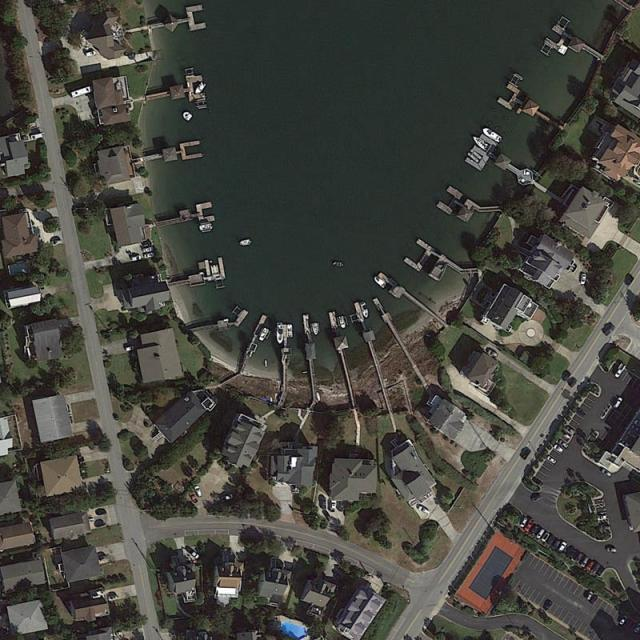vehicle: (70, 85, 92, 98), (186, 546, 199, 560), (520, 448, 531, 460), (485, 347, 498, 357), (30, 131, 46, 139), (188, 491, 198, 503), (625, 275, 635, 287), (419, 505, 432, 514), (330, 499, 337, 513), (600, 468, 612, 476), (558, 542, 567, 552), (320, 495, 326, 510), (222, 494, 233, 502), (614, 397, 622, 408), (558, 440, 569, 448), (532, 478, 543, 486), (553, 539, 561, 550), (590, 594, 598, 605), (569, 377, 577, 388), (562, 370, 570, 381), (605, 325, 614, 334), (132, 254, 142, 262), (554, 445, 564, 453), (542, 532, 550, 542), (581, 557, 589, 567), (108, 594, 118, 602), (580, 273, 586, 286), (195, 487, 202, 498), (619, 614, 626, 625), (51, 239, 62, 246), (537, 529, 545, 538), (586, 561, 594, 570), (593, 563, 599, 575), (565, 426, 575, 433), (547, 456, 557, 463), (532, 495, 542, 502), (606, 547, 617, 553), (338, 500, 344, 511), (142, 246, 152, 252), (546, 602, 553, 610), (586, 592, 593, 600), (124, 346, 135, 351), (576, 553, 582, 562), (598, 515, 606, 521), (520, 518, 526, 526), (634, 625, 640, 633), (616, 370, 622, 377), (525, 524, 531, 531), (145, 253, 153, 258), (600, 526, 610, 530)
